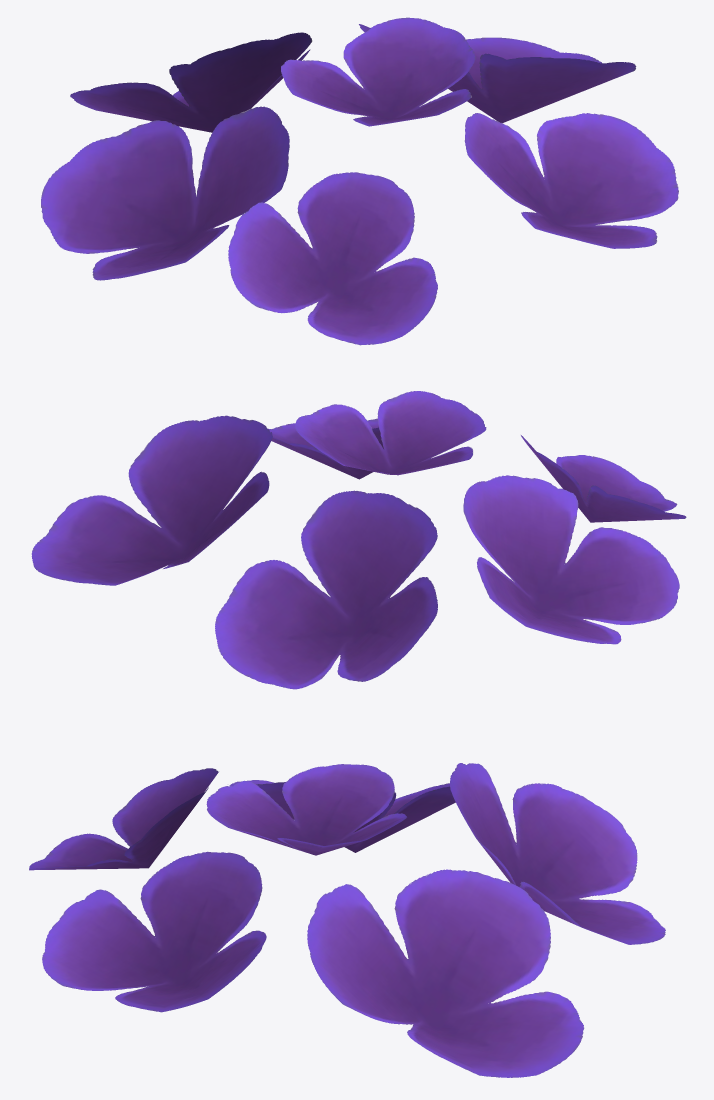
Rendered from Plant_7.gltf.
3 renders of one model, top to bottom at view 1: azimuth 30°, elevation 25°; view 2: azimuth 150°, elevation 25°; view 3: azimuth 270°, elevation 25°, orthographic. The views are drawn at different scales.
Parts seen in each view (by area): view 1: Plant_7; view 2: Plant_7; view 3: Plant_7.
Boxes of the visible parts, x1,y1,x2,y2 form: Plant_7: [41, 17, 678, 345]; Plant_7: [31, 391, 686, 689]; Plant_7: [29, 763, 665, 1077].
Size of the model in its own units: 1.05 by 0.2495 by 0.9621.
1 material, 1 textured.
